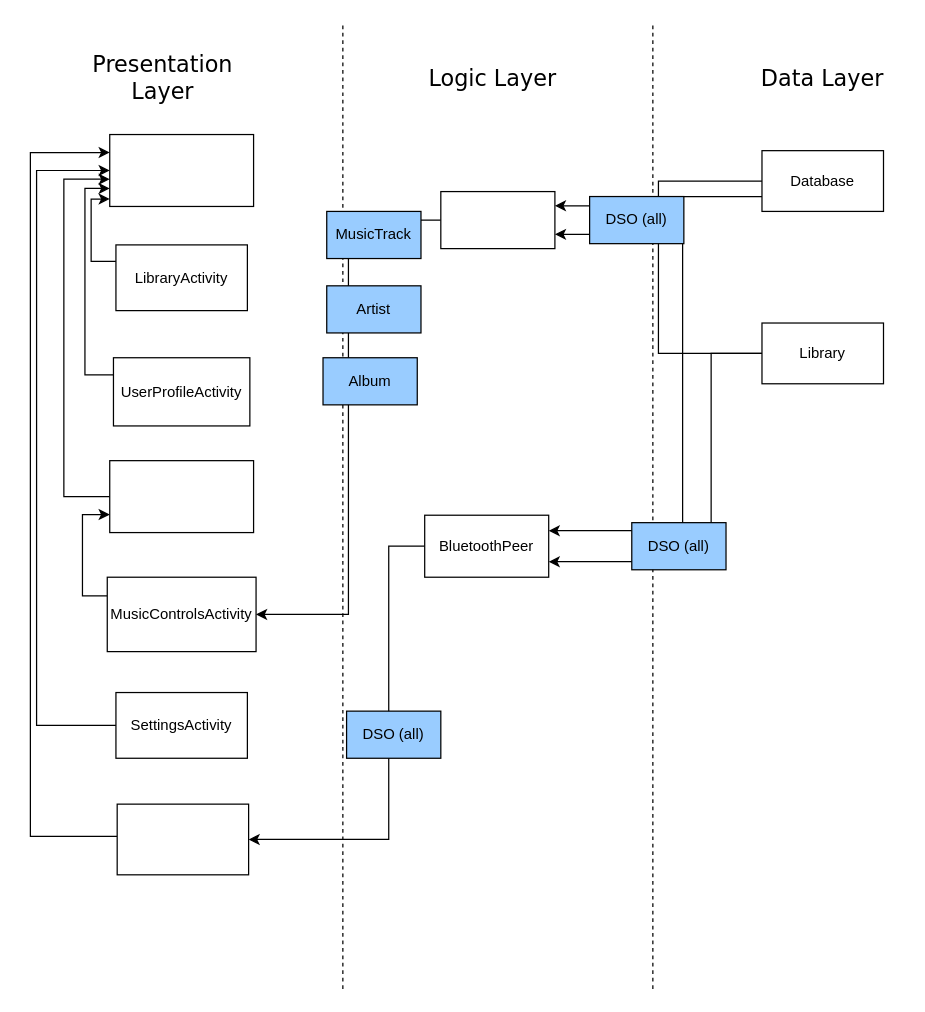
Some shapes in this 925 by 1012 pixel diagram are drawn without their labels. The box of each missing label's shape, as (x1, y1, x2, y2) in pixels:
ChatActivity: (116, 803, 249, 875)
HomeActivity: (108, 459, 254, 533)
MainActivity: (108, 133, 254, 206)
MusicPlayer: (440, 190, 555, 249)
